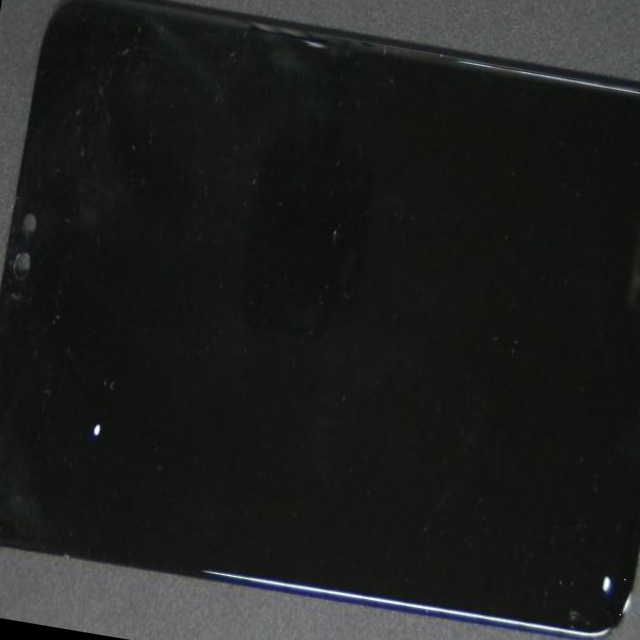stain: (232, 196, 640, 640), (0, 113, 194, 637)
